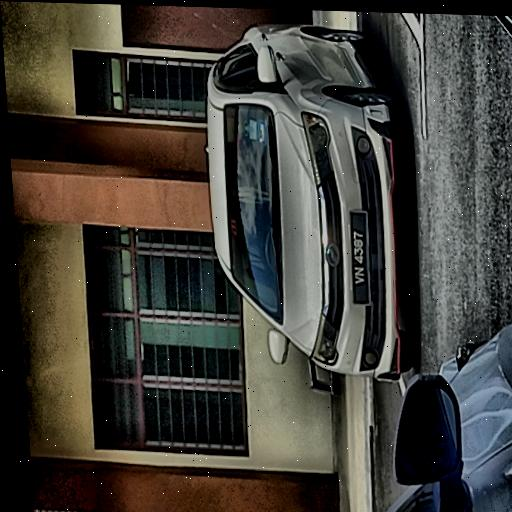license_plate: (348, 206, 372, 307)
